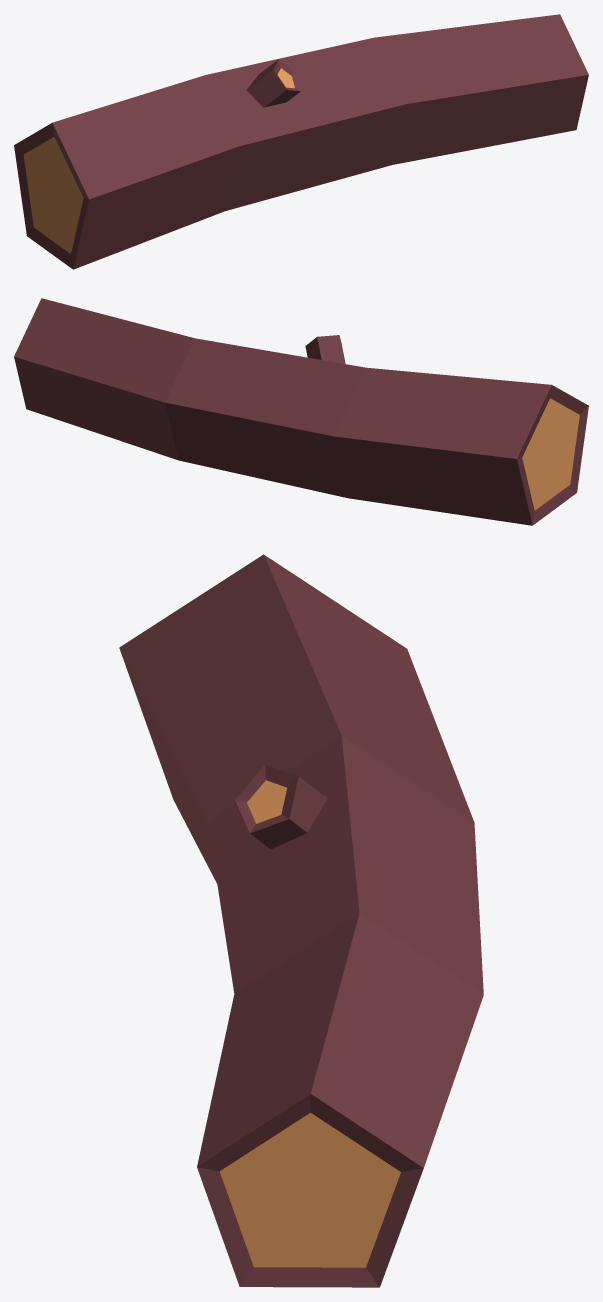
Rendered from log_1.fbx.
3 views of the same model, one above another, from view 1: azimuth 30°, elevation 25°; view 2: azimuth 150°, elevation 25°; view 3: azimuth 270°, elevation 25° (orthographic). The views are drawn at different scales.
Visible parts, largest first — view 1: Cylinder, Cylinder.001; view 2: Cylinder, Cylinder.001; view 3: Cylinder, Cylinder.001.
Part boxes in pixels (x1,y1,x2,y2): Cylinder: (14, 14, 588, 269); Cylinder.001: (246, 59, 300, 107); Cylinder: (14, 298, 588, 525); Cylinder.001: (305, 335, 345, 363); Cylinder: (119, 554, 483, 1287); Cylinder.001: (235, 764, 327, 849).
Size of the model in its own units: 233 by 55.4 by 73.33.
